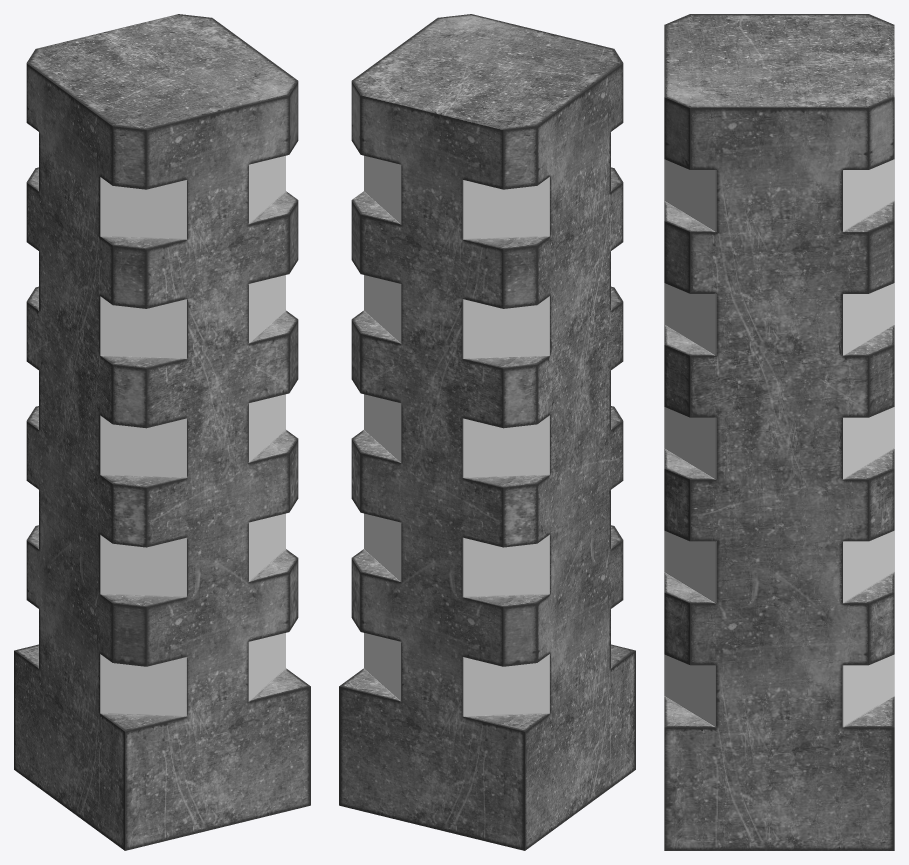
The model's file is HealthSpray.fbx.
The picture shows the model from 3 angles, left to right: view 1: azimuth 30°, elevation 25°; view 2: azimuth 150°, elevation 25°; view 3: azimuth 270°, elevation 25°; orthographic projection. The views are drawn at different scales.
Visible parts, largest first — view 1: pCube1; view 2: pCube1; view 3: pCube1.
Boxes of the visible parts, x1=… form: pCube1: x1=14, y1=14, x2=310, y2=850; pCube1: x1=339, y1=14, x2=635, y2=850; pCube1: x1=664, y1=14, x2=894, y2=850.
Bounding box in the file's own units: 350 × 1288 × 362.
